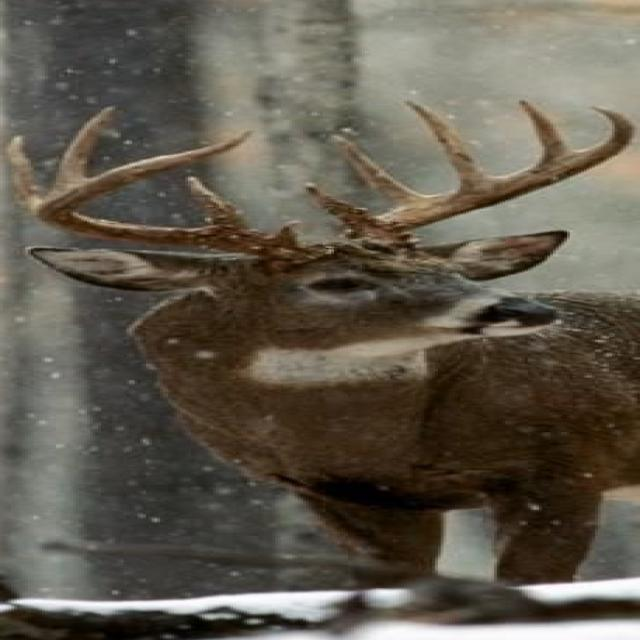L-F: (340, 105, 638, 244)
L-G1: (300, 181, 376, 233)
L-G2: (320, 131, 430, 210)
L-G3: (401, 98, 499, 188)
L-G4: (515, 98, 576, 163)
R-F: (31, 128, 338, 265)
R-G1: (276, 219, 307, 242)
R-G2: (183, 174, 259, 233)
R-G3: (3, 131, 47, 214)
R-G4: (48, 103, 119, 192)
